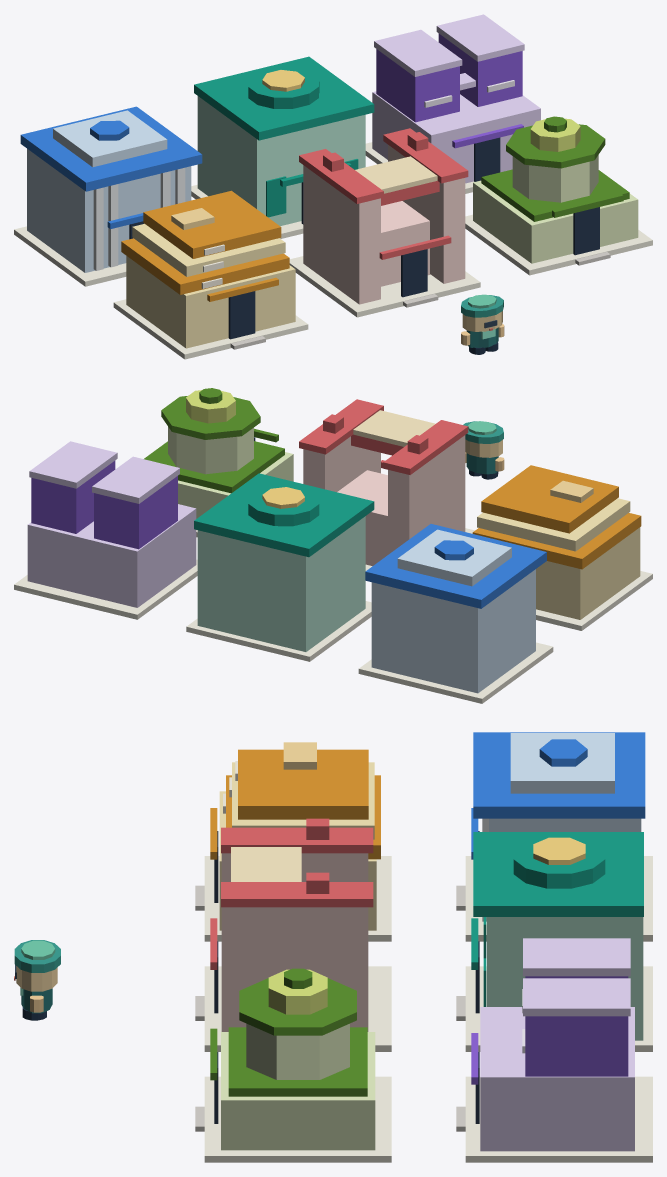
Rendered from ac-town-kit.obj.
The picture shows the model from 3 angles, top to bottom: view 1: azimuth 30°, elevation 25°; view 2: azimuth 150°, elevation 25°; view 3: azimuth 270°, elevation 25°; orthographic projection. The views are drawn at different scales.
Visible parts, largest first — view 1: crossborder, disclosure, regulation, provider, infrastructure, standards, AC_avatar; view 2: provider, regulation, infrastructure, disclosure, crossborder, standards, AC_avatar; view 3: infrastructure, standards, crossborder, provider, regulation, disclosure, AC_avatar.
Boxes of the visible parts, box(x1,y1,x2,y2) form: crossborder: box(289, 128, 480, 317); disclosure: box(113, 190, 308, 359); regulation: box(14, 106, 202, 286); provider: box(191, 56, 374, 238); infrastructure: box(365, 14, 540, 193); standards: box(465, 116, 652, 275); AC_avatar: box(461, 294, 504, 354); provider: box(186, 473, 374, 661); regulation: box(358, 524, 553, 703); infrastructure: box(14, 441, 197, 619); disclosure: box(472, 465, 652, 630); crossborder: box(299, 399, 474, 570); standards: box(144, 388, 293, 537); AC_avatar: box(463, 421, 504, 479); infrastructure: box(456, 938, 652, 1162); standards: box(195, 968, 391, 1162); crossborder: box(195, 818, 391, 1051); provider: box(456, 832, 652, 1051); regulation: box(456, 732, 652, 941); disclosure: box(195, 742, 391, 941); AC_avatar: box(14, 940, 60, 1020).
Size of the model in its own units: 16.3 by 4.15 by 14.68.
